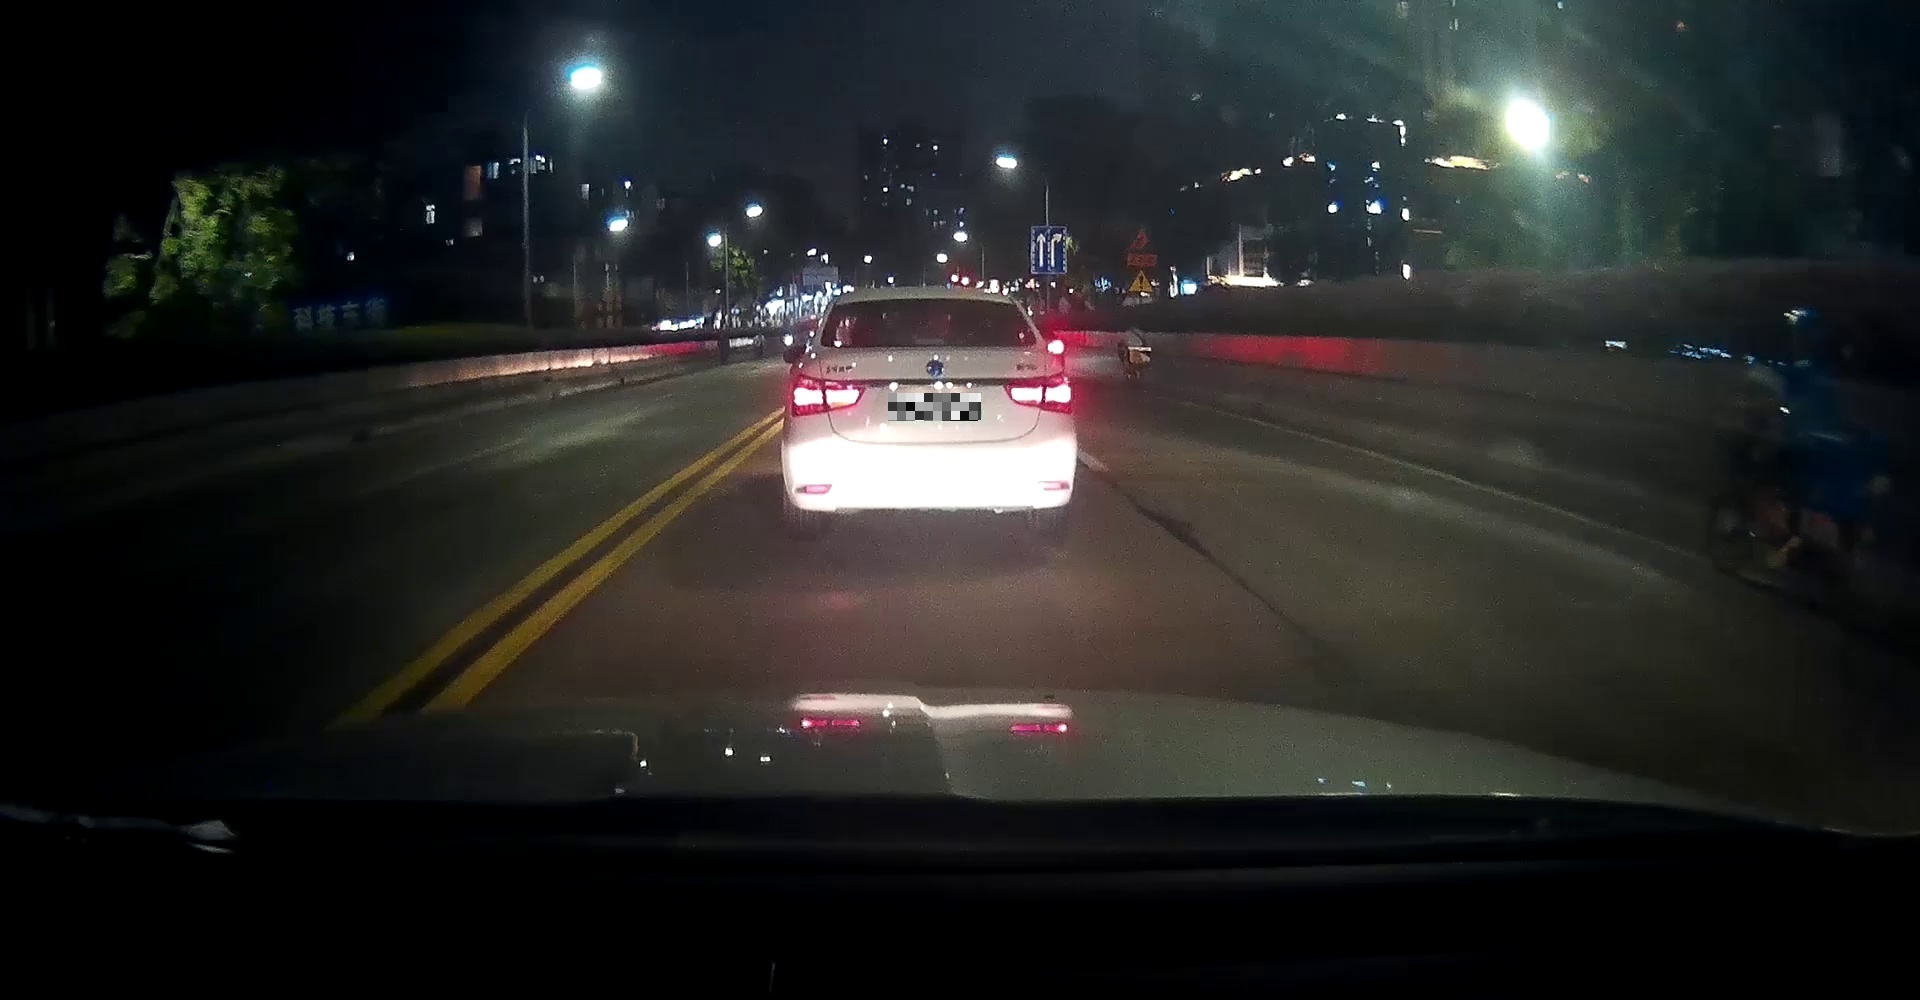L_light: (790, 372, 866, 416)
R_light: (1003, 371, 1074, 414)
T_light: (913, 338, 945, 346)
night-no: (782, 286, 1077, 530)
plate_1: (888, 393, 982, 421)
